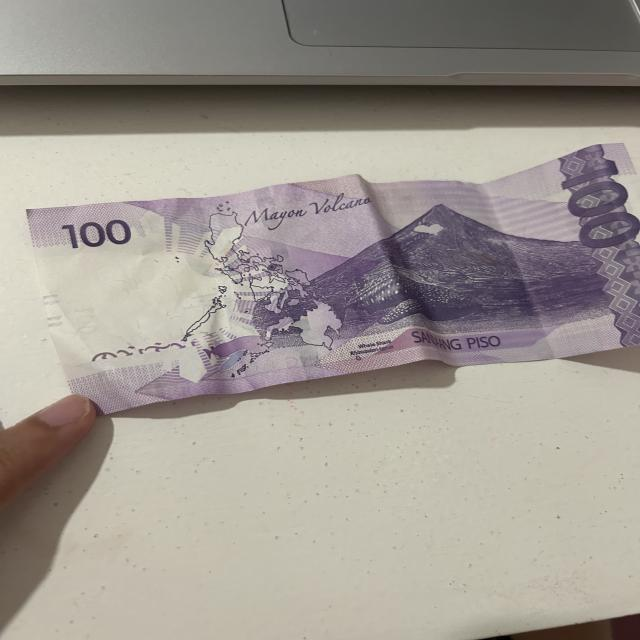100_whale: (338, 280, 482, 325)
100_whale_watermark: (203, 334, 270, 358)
value_watermark: (74, 303, 102, 333)
